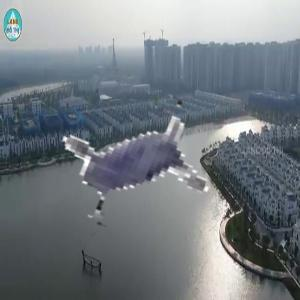drone: (13, 42, 252, 281)
